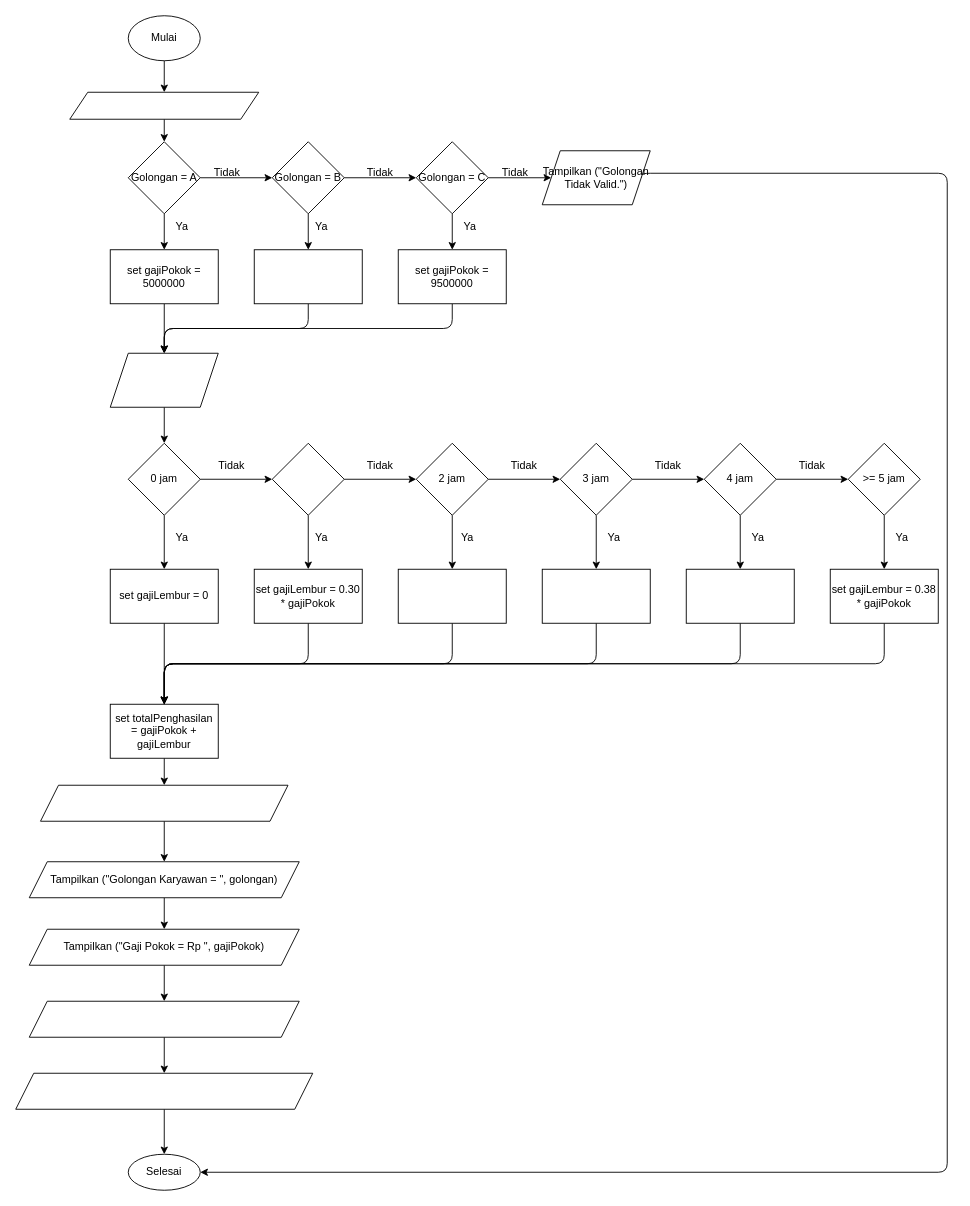
Image size: 970x1206. Some labels were removed from this diagram. The centre of each missing label's shape, as x and y in pixels:
1 jam: the point at 307,478
Masukkan Golongan Karyawan: the point at 164,105
Masukkan Jam Lembur: the point at 163,379
set gajiLembur = 0.32 * gajiPokok: the point at 451,595
set gajiLembur = 0.34 * gajiPokok: the point at 595,595
set gajiLembur = 0.36 * gajiPokok: the point at 739,595
set gajiPokok = 6500000: the point at 307,276
Tampilkan ("===Hasil Perhitungan==="): the point at 164,802
Tampilkan ("Gaji Lembur = Rp ", gajiLembur): the point at 163,1018
Tampilkan ("Total Penghasilan = Rp ", totalPenghasilan): the point at 164,1090
